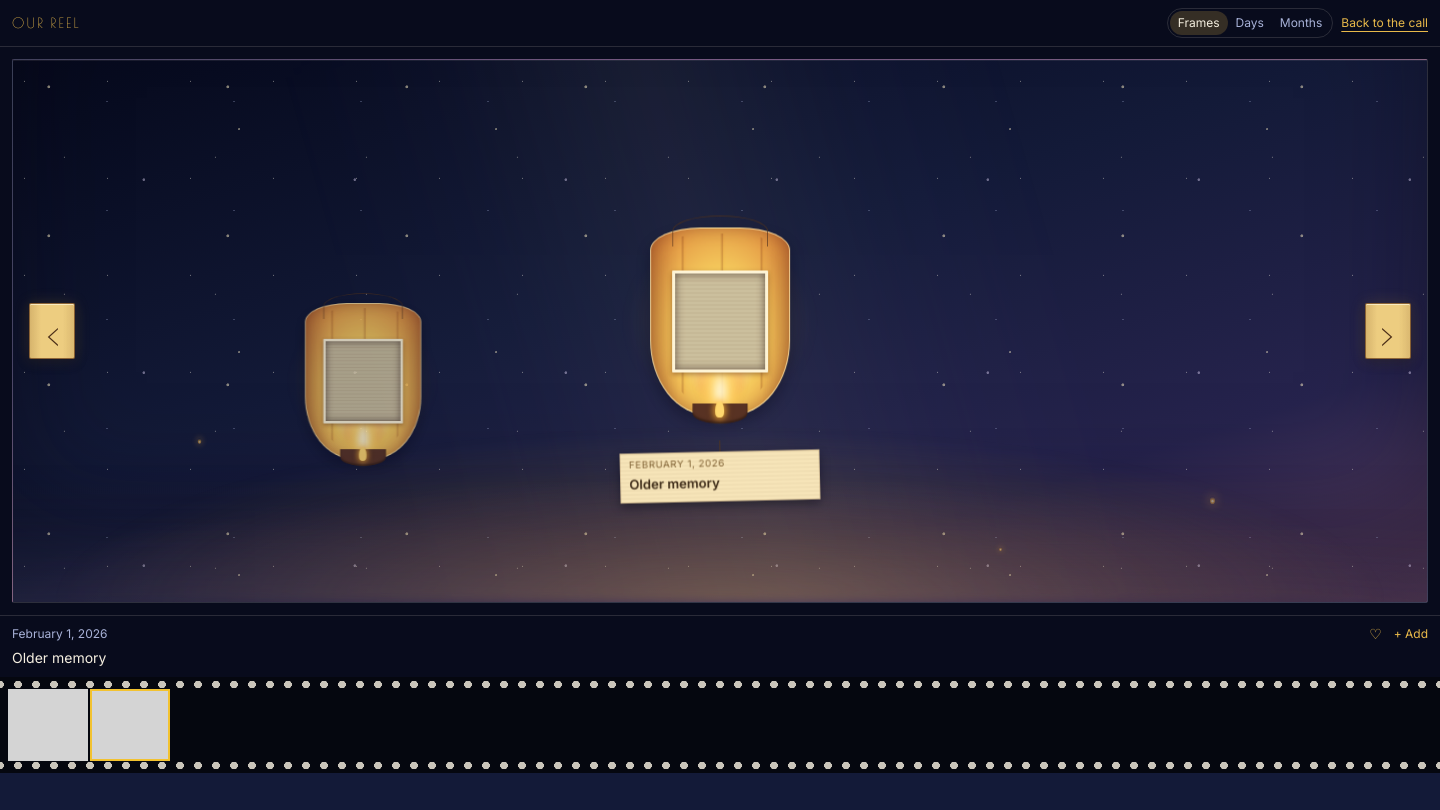
Test case: RoomAlbum › does not notify the other screen when a love PATCH fails
Click the button named "Love memory". click: (1375,634)
box: x1=1369 y1=624 x2=1382 y2=644
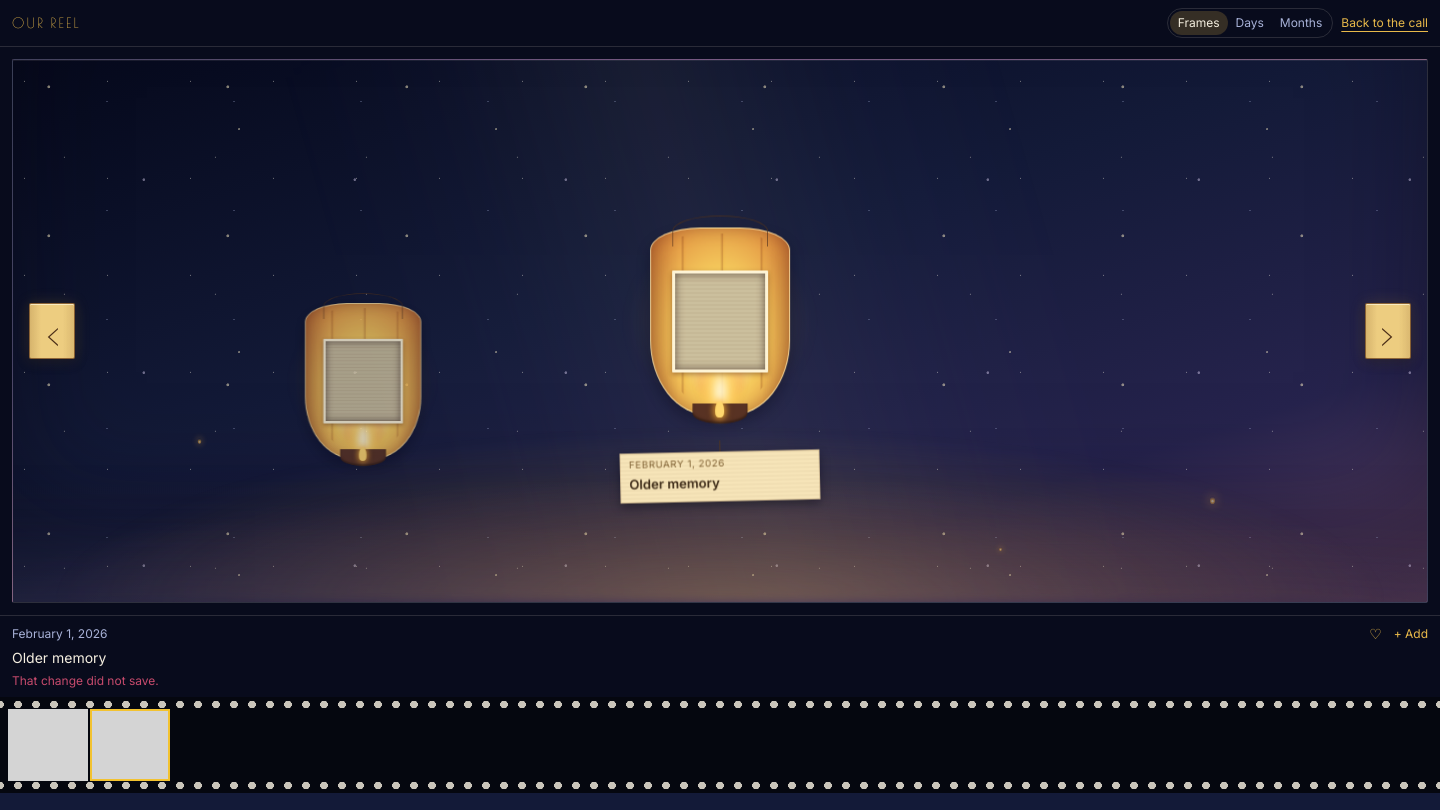
Expected: the message shows "did not save", x1=12 y1=673 x2=159 y2=688
